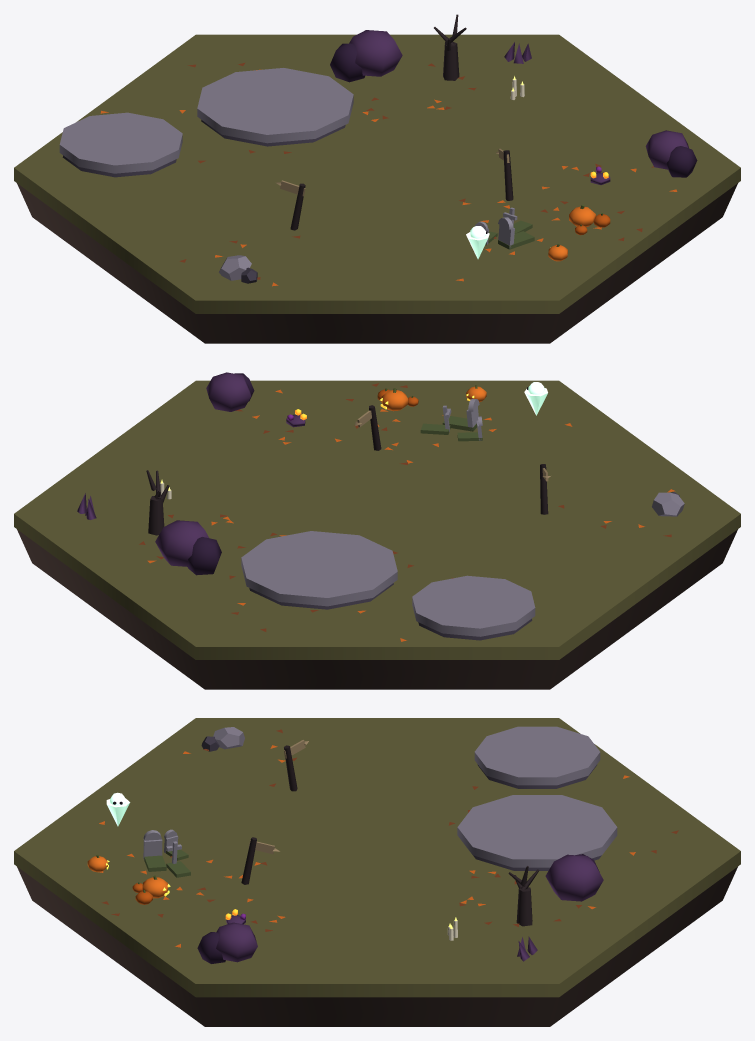
The model's file is tile_mirrorJunction.glb.
3 renders of one model, top to bottom at view 1: azimuth 30°, elevation 25°; view 2: azimuth 150°, elevation 25°; view 3: azimuth 270°, elevation 25°, orthographic.
Parts seen in each view (by area): view 1: ground, ground_soil, tower_slot_2_plate, tower_slot_1_plate, deco_bush_5_a, deco_bush_0_a, deco_bush_5_b, deco_bush_0_b, deco_stone_3_a; view 2: ground, ground_soil, tower_slot_2_plate, tower_slot_1_plate, deco_bush_5_a, deco_bush_0_a, deco_bush_5_b, deco_stone_3_a, deco_tree_2_trunk; view 3: ground, ground_soil, tower_slot_2_plate, tower_slot_1_plate, deco_bush_5_a, deco_bush_0_a, deco_bush_0_b, deco_stone_3_a, deco_tree_2_trunk.
Part boxes in pixels (box(x1,y1,x2,y2)): ground: box(14, 34, 740, 313); ground_soil: box(17, 183, 737, 343); tower_slot_2_plate: box(197, 68, 353, 143); tower_slot_1_plate: box(59, 112, 182, 173); deco_bush_5_a: box(349, 30, 402, 76); deco_bush_0_a: box(645, 130, 688, 169); deco_bush_5_b: box(330, 43, 364, 82); deco_bush_0_b: box(666, 146, 697, 177); deco_stone_3_a: box(219, 255, 251, 280); ground: box(14, 380, 740, 659); ground_soil: box(17, 529, 737, 689); tower_slot_2_plate: box(241, 531, 397, 606); tower_slot_1_plate: box(412, 575, 535, 636); deco_bush_5_a: box(155, 520, 208, 566); deco_bush_0_a: box(206, 372, 251, 411); deco_bush_5_b: box(187, 537, 221, 575); deco_stone_3_a: box(652, 492, 684, 516); deco_tree_2_trunk: box(148, 496, 164, 535); ground: box(14, 718, 740, 997); ground_soil: box(17, 867, 737, 1026); tower_slot_2_plate: box(457, 795, 617, 867); tower_slot_1_plate: box(474, 726, 600, 785); deco_bush_5_a: box(545, 854, 603, 901); deco_bush_0_a: box(216, 922, 257, 962); deco_bush_0_b: box(197, 932, 225, 963); deco_stone_3_a: box(213, 727, 244, 749); deco_tree_2_trunk: box(516, 887, 532, 926).
Size of the model in its own units: 1.73 by 0.334 by 2.
